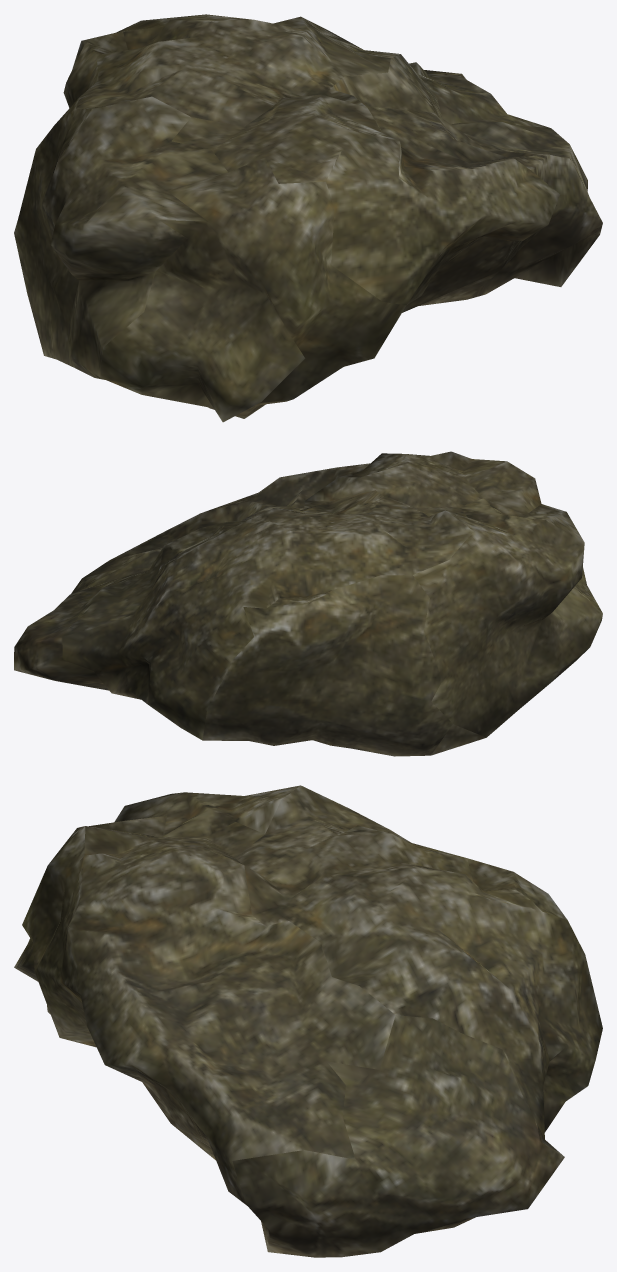
The model's file is pine_rockb_12.glb.
The picture shows the model from 3 angles, top to bottom: view 1: azimuth 30°, elevation 25°; view 2: azimuth 150°, elevation 25°; view 3: azimuth 270°, elevation 25°; orthographic projection. The views are drawn at different scales.
Parts seen in each view (by area): view 1: pine_rockb_12; view 2: pine_rockb_12; view 3: pine_rockb_12.
Part boxes in pixels (box(x1,y1,x2,y2)): pine_rockb_12: box(14, 14, 602, 422); pine_rockb_12: box(14, 451, 602, 756); pine_rockb_12: box(14, 785, 602, 1257).
Bounding box in the file's own units: 1.4 × 0.6477 × 1.29.
1 material, 1 textured.
